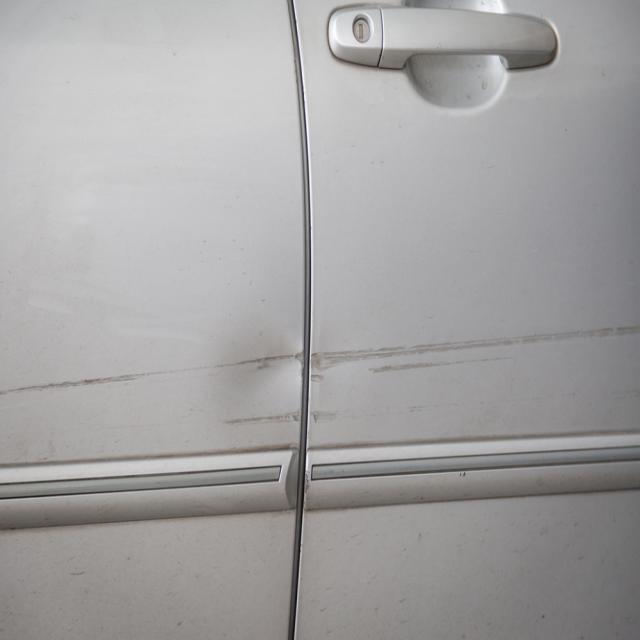dent: (210, 334, 303, 443)
scratch: (311, 318, 640, 385), (0, 369, 155, 402)
